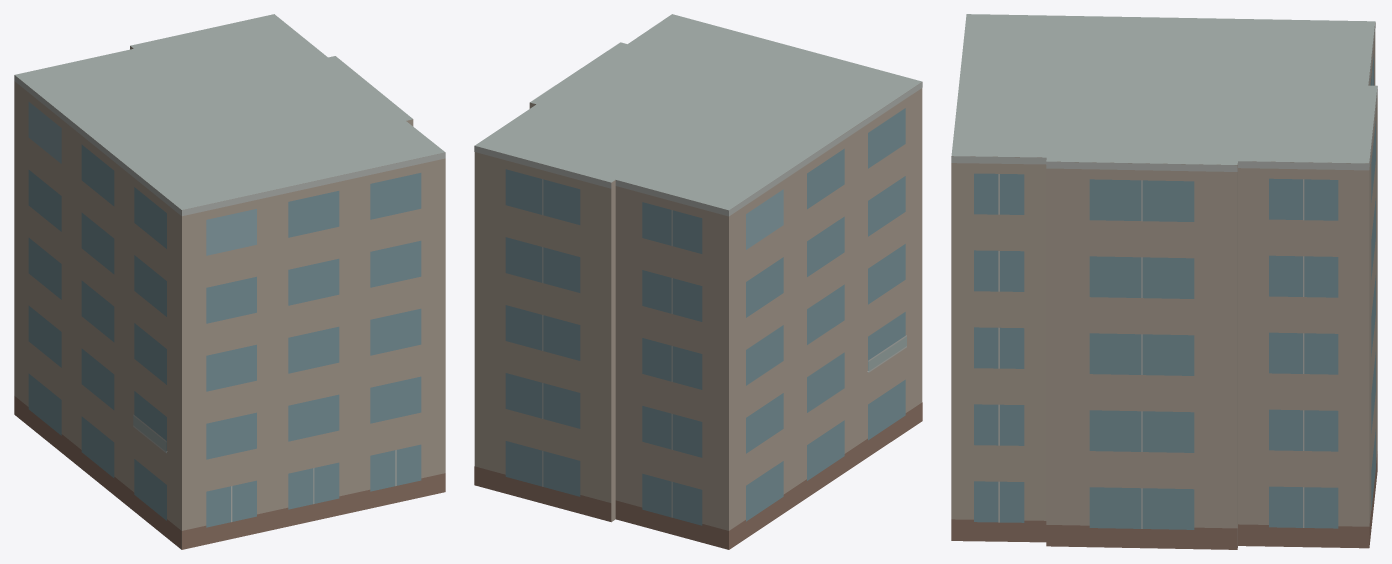
Rendered from survey-upis-32946910.glb.
3 renders of one model, left to right at view 1: azimuth 30°, elevation 25°; view 2: azimuth 150°, elevation 25°; view 3: azimuth 270°, elevation 25°, orthographic. The views are drawn at different scales.
Parts seen in each view (by area): view 1: survey-upis-32946910.tmp; view 2: survey-upis-32946910.tmp; view 3: survey-upis-32946910.tmp.
Boxes of the visible parts, left/top/right/bottom form: survey-upis-32946910.tmp: left=14, top=14, right=445, bottom=549; survey-upis-32946910.tmp: left=474, top=14, right=922, bottom=549; survey-upis-32946910.tmp: left=951, top=14, right=1377, bottom=549.
Size of the model in its own units: 11.34 by 13.45 by 13.51.
